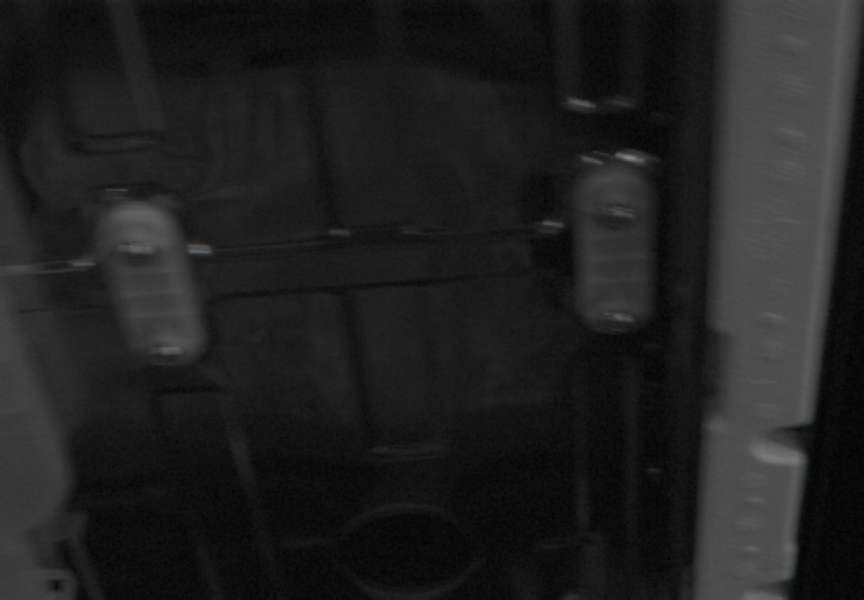screw: (594, 190, 638, 229), (595, 310, 639, 334), (117, 241, 158, 265), (148, 344, 185, 365)
